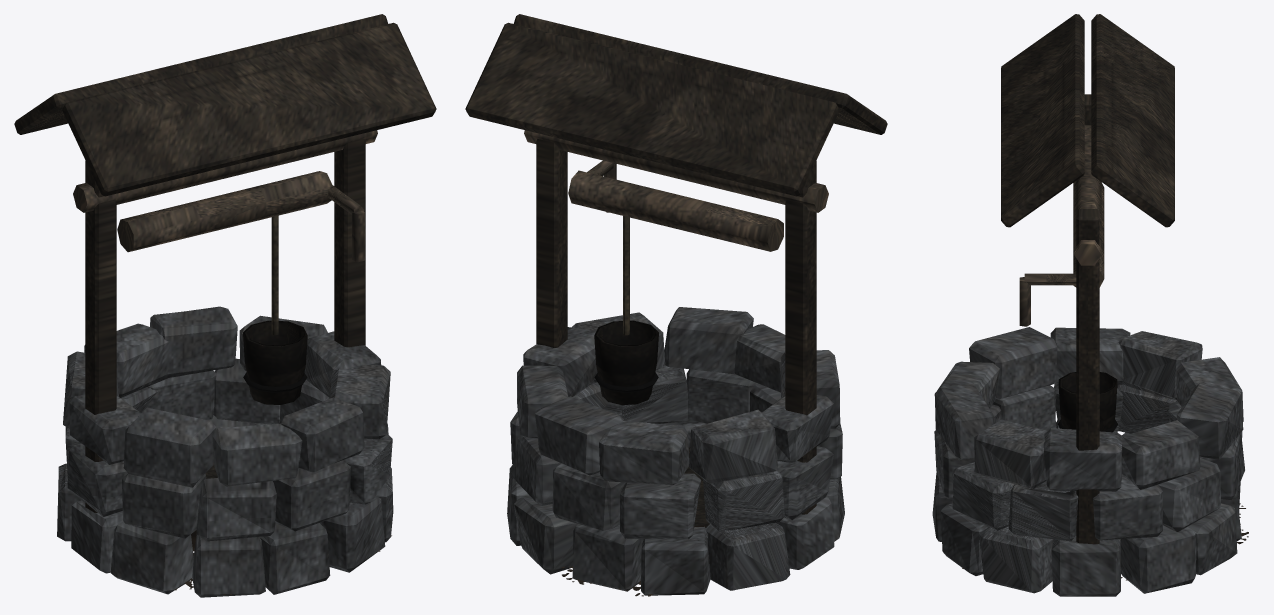
File: well.glb
3 views of the same model, side by side, from view 1: azimuth 30°, elevation 25°; view 2: azimuth 150°, elevation 25°; view 3: azimuth 270°, elevation 25° (orthographic). The views are drawn at different scales.
Visible parts, largest first — view 1: well; view 2: well; view 3: well.
Boxes of the visible parts, box(x1,y1,x2,y2) form: well: box(14, 14, 436, 597); well: box(465, 14, 887, 596); well: box(932, 14, 1248, 596).
Size of the model in its own units: 1.56 by 2.12 by 1.48.
2 materials, 2 textured.
